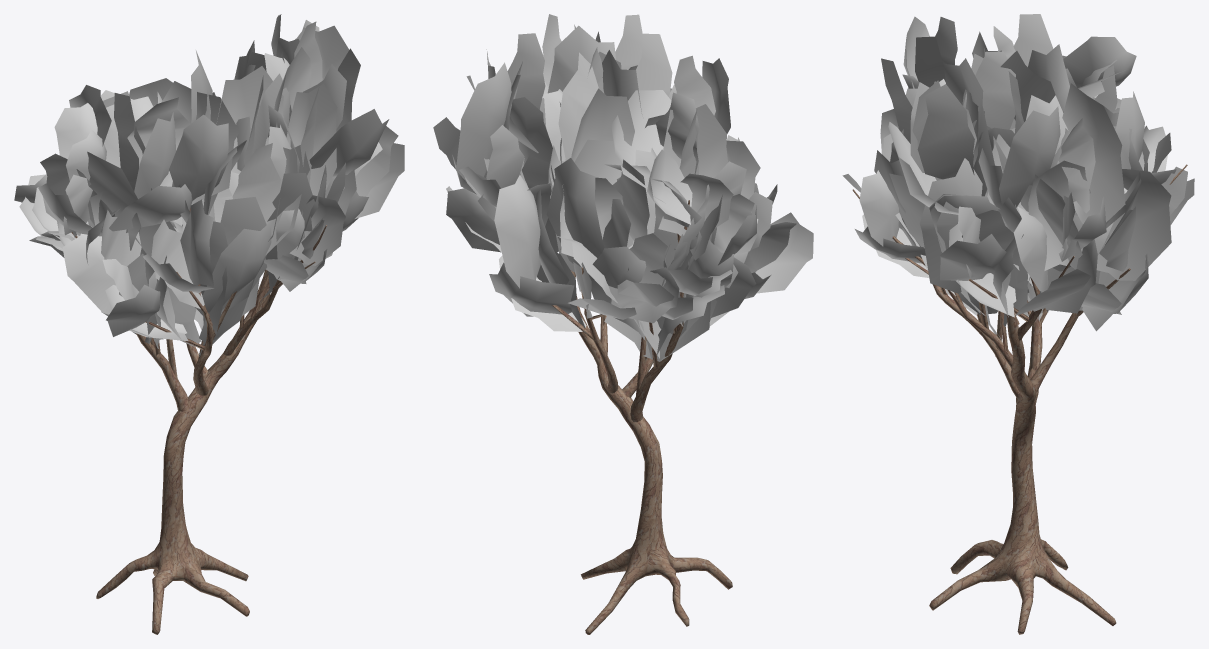
Rendered from Tree1.fbx.
3 renders of one model, left to right at view 1: azimuth 30°, elevation 25°; view 2: azimuth 150°, elevation 25°; view 3: azimuth 270°, elevation 25°, orthographic. The views are drawn at different scales.
Parts seen in each view (by area): view 1: rosebayRhododendron_01_tree:Plane074, rosebayRhododendron_01_tree:treeTrunkbase_01_UVready; view 2: rosebayRhododendron_01_tree:Plane074, rosebayRhododendron_01_tree:treeTrunkbase_01_UVready; view 3: rosebayRhododendron_01_tree:Plane074, rosebayRhododendron_01_tree:treeTrunkbase_01_UVready.
Boxes of the visible parts, x1,y1,x2,y2 form: rosebayRhododendron_01_tree:Plane074: (14,14,404,356); rosebayRhododendron_01_tree:treeTrunkbase_01_UVready: (71,208,326,634); rosebayRhododendron_01_tree:Plane074: (433,14,813,361); rosebayRhododendron_01_tree:treeTrunkbase_01_UVready: (551,200,732,634); rosebayRhododendron_01_tree:Plane074: (842,14,1194,339); rosebayRhododendron_01_tree:treeTrunkbase_01_UVready: (852,164,1187,634).
Size of the model in its own units: 5.36 by 9.02 by 4.72.
